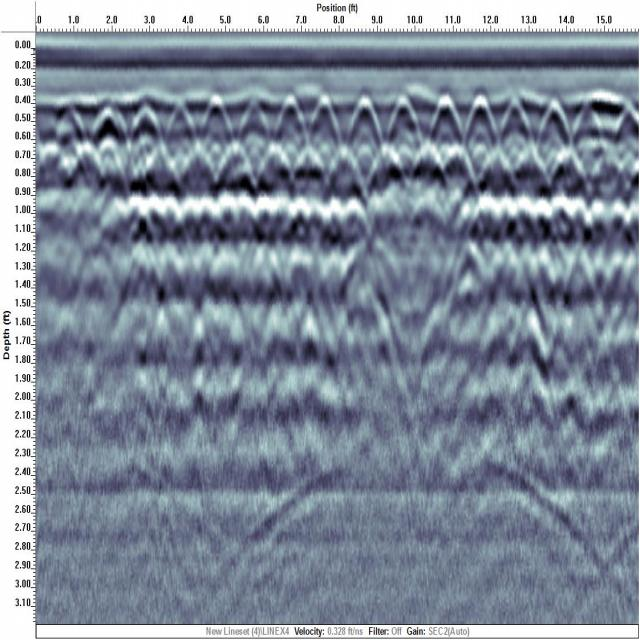hyperbola: (190, 90, 242, 158), (379, 88, 422, 161), (457, 88, 503, 156), (421, 88, 465, 156), (534, 91, 574, 160), (306, 86, 344, 156)
